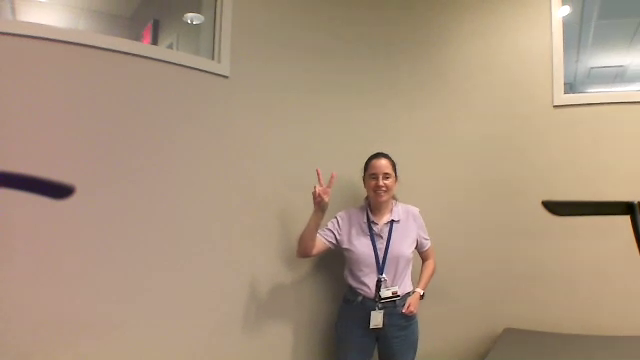peace: (306, 165, 338, 214)
